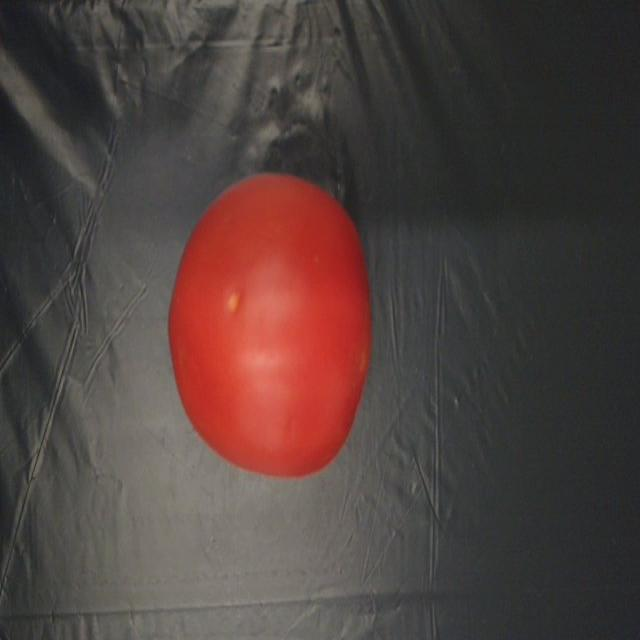kirmizi: (153, 164, 376, 482)
